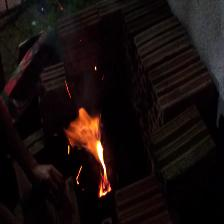fire: (64, 108, 116, 199)
